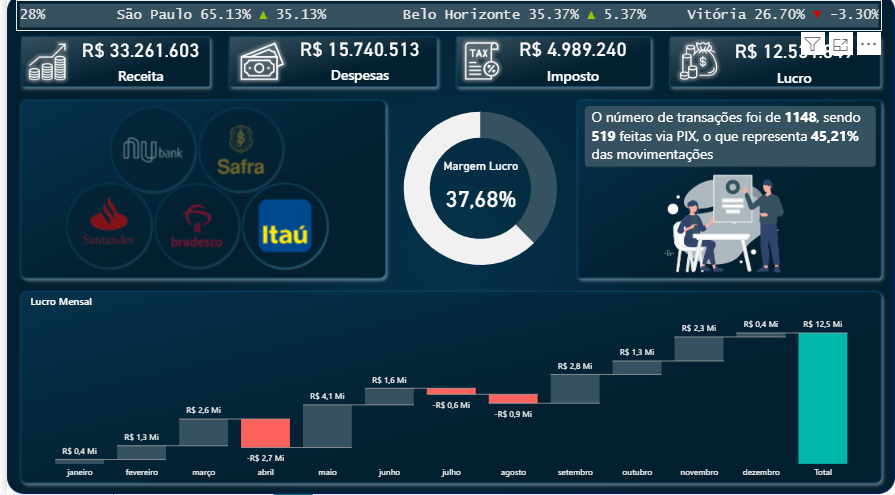

The dashboard page shown, as its layout file describes it:
{"tool":"powerbi","page":{"name":"Dashboard Financeiro","canvas":[1280,720],"ordinal":0},"visuals":[{"type":"donutChart","title":"% Margem de Lucro","fields":{"Y":["Movimentações.Margem","Movimentações.Margem Auxiliar"]},"box":[496.9,137.3,370,286.3],"z":0},{"type":"card","fields":{"Values":["Movimentações.Receita"]},"box":[91.9,40.7,201.3,104.7],"z":1000},{"type":"card","fields":{"Values":["Movimentações.Despesas"]},"box":[408.4,44.2,199,94.3],"z":2000},{"type":"card","fields":{"Values":["Movimentações.Imposto"]},"box":[713.3,48.9,204.8,86.1],"z":3000},{"type":"card","fields":{"Values":["Movimentações.Lucro"]},"box":[1018.2,51.2,231.6,86.1],"z":4000},{"type":"waterfallChart","title":"Lucro Mensal","fields":{"Category":["Movimentações.Data da Movimentacao.Variation.Hierarquia de datas.Mês"],"Y":["Movimentações.Lucro"]},"box":[29.1,431.7,1223,274.6],"z":5000},{"type":"card","title":"Margem Lucro","fields":{"Values":["Movimentações.Margem"]},"box":[602.8,237.4,158.3,90.8],"z":6000},{"type":"ImageGrid_FC5183B9_926C_45E0_B5F7_0CE9EAF1DA9B","fields":{"ImageURLHQ":["Movimentações.Imagem"]},"box":[0,73.3,549.2,413.1],"z":7000},{"type":"ScrollingTextVisual1448795304508","fields":{"Measure Absolute":["Movimentações.Margem"],"Category":["Movimentações.Município"],"Measure Deviation":["Movimentações.Desvio Margem"]},"box":[12.8,9.3,1247.4,44.2],"z":8000},{"type":"enlightenDataStoryDDFB78A6143E42CFAFBC50CCF18D978D","fields":{"measure":["Movimentações.Transações","Movimentações.Transações PIX","Movimentações.% PIX"]},"box":[836.7,157.1,399.1,97.7],"z":9000},{"type":"actionButton","box":[29.1,61.7,82.6,86.1],"z":10000}]}

Visuals, with their boxes in screenshot pixels (x1, y1, x2, y2), scaled from the page's 1280x720 canvas onto the 895x495 screenshot:
"% Margem de Lucro" donutChart: x1=347, y1=94, x2=606, y2=291
card - Movimentações.Receita: x1=64, y1=28, x2=205, y2=100
card - Movimentações.Despesas: x1=286, y1=30, x2=425, y2=95
card - Movimentações.Imposto: x1=499, y1=34, x2=642, y2=93
card - Movimentações.Lucro: x1=712, y1=35, x2=874, y2=94
"Lucro Mensal" waterfallChart: x1=20, y1=297, x2=875, y2=486
"Margem Lucro" card: x1=421, y1=163, x2=532, y2=226
ImageGrid_FC5183B9_926C_45E0_B5F7_0CE9EAF1DA9B - Movimentações.Imagem: x1=0, y1=50, x2=384, y2=334
ScrollingTextVisual1448795304508 - Movimentações.Margem x Movimentações.Município: x1=9, y1=6, x2=881, y2=37
enlightenDataStoryDDFB78A6143E42CFAFBC50CCF18D978D - Movimentações.Transações x Movimentações.Transações PIX: x1=585, y1=108, x2=864, y2=175
actionButton: x1=20, y1=42, x2=78, y2=102
